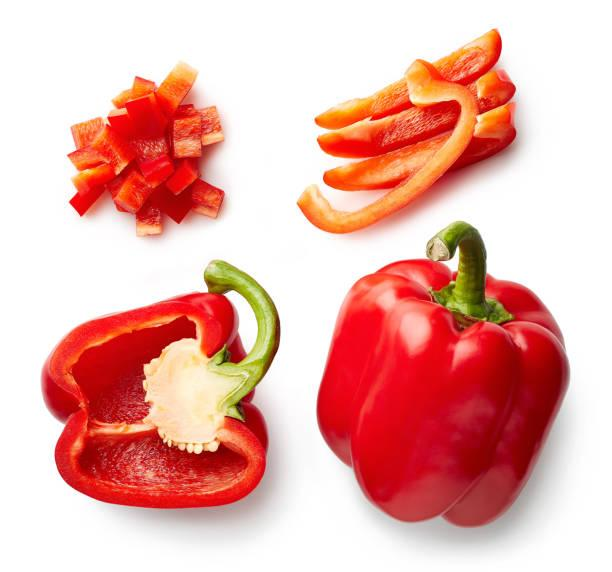Capsicum: (317, 222, 568, 525), (44, 261, 279, 506)
